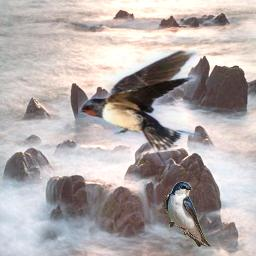Swallow: (78, 50, 201, 166), (164, 181, 211, 247)
